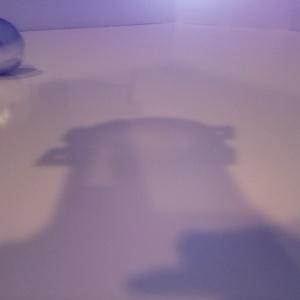alive_ball: (1, 17, 25, 76)
